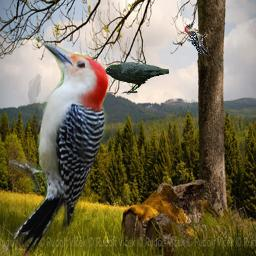Crow: (100, 62, 169, 94)
Woodpecker: (9, 42, 110, 256), (184, 22, 210, 57)
